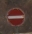No entry: (5, 6, 26, 28)
